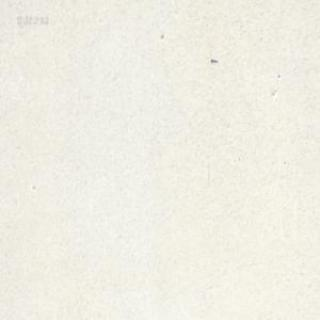Nailtrack_idkeyframe: (210, 57, 217, 62)
